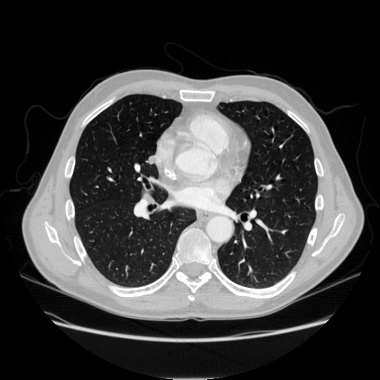nodule: (147, 156, 155, 164)
